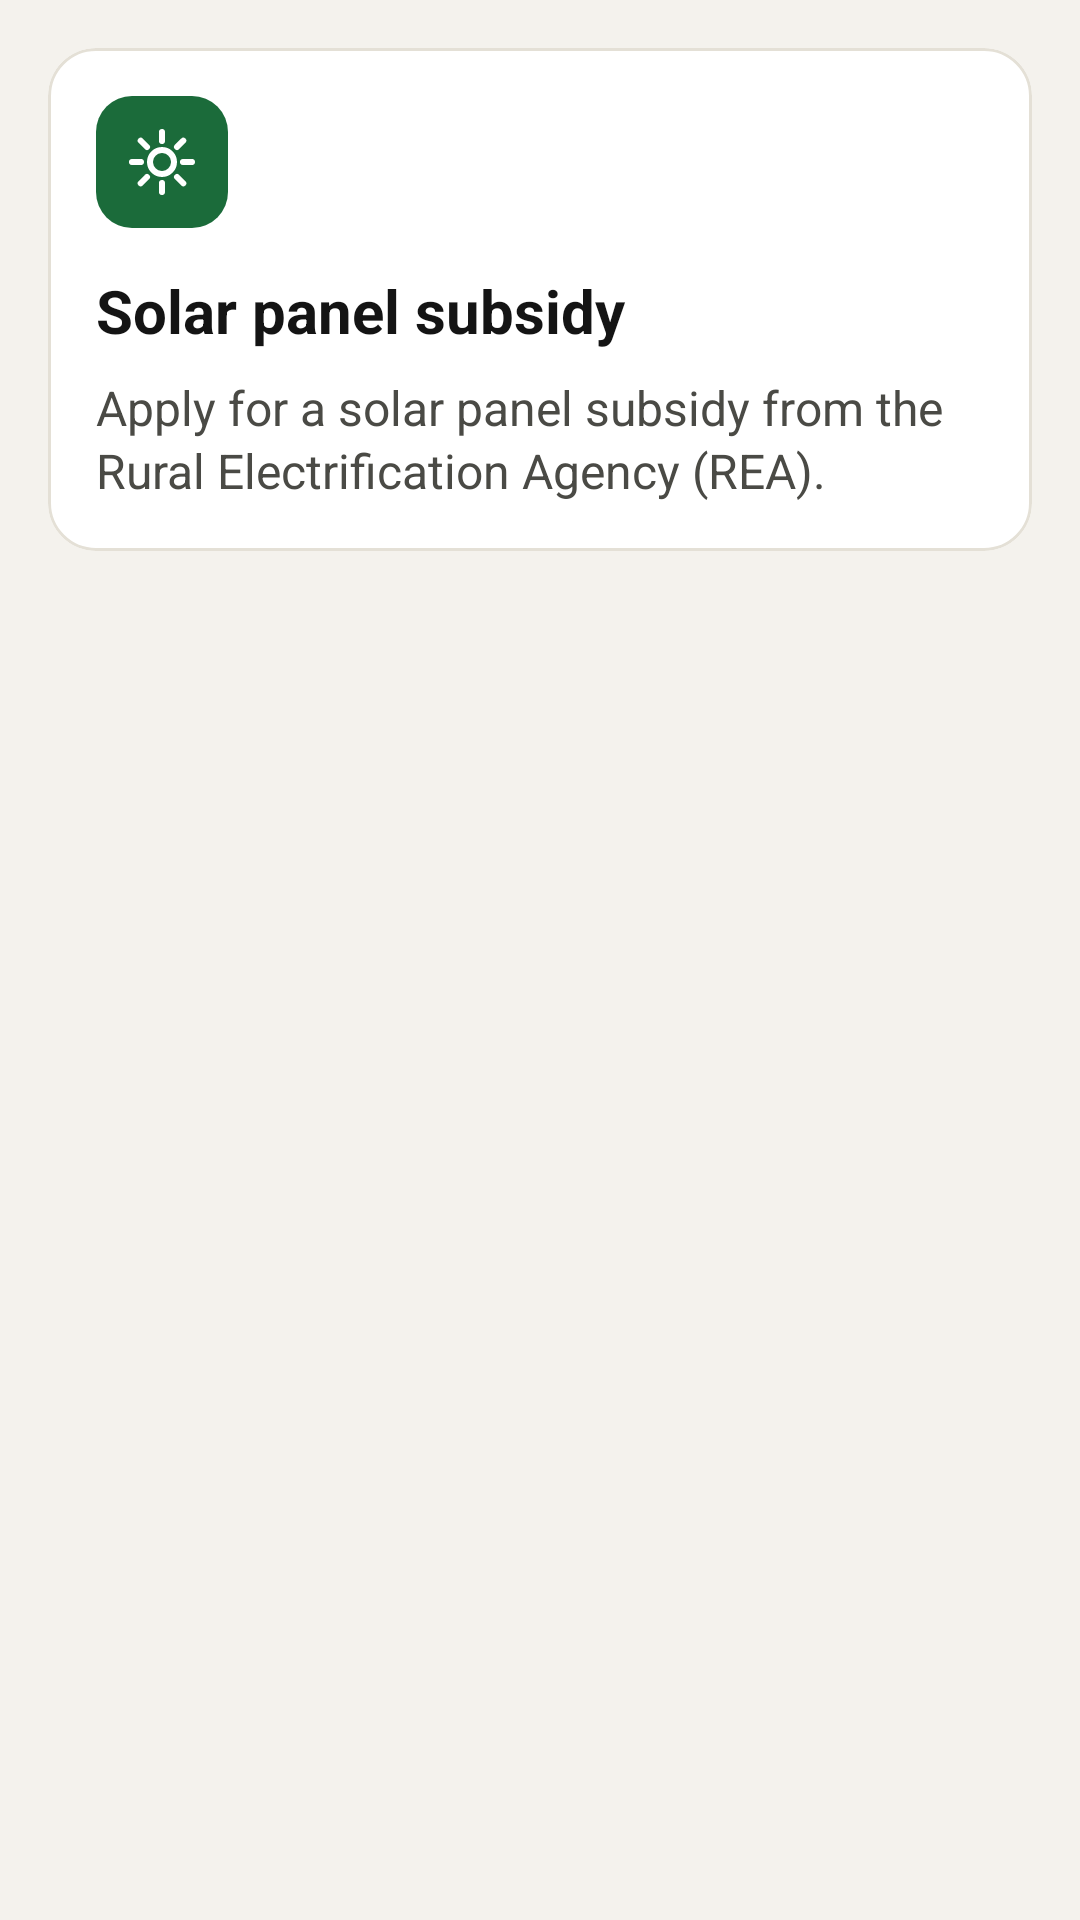

Icon click points for this 1080px x 1920px phone screenshot, format (x,y):
sun: (162,162)
